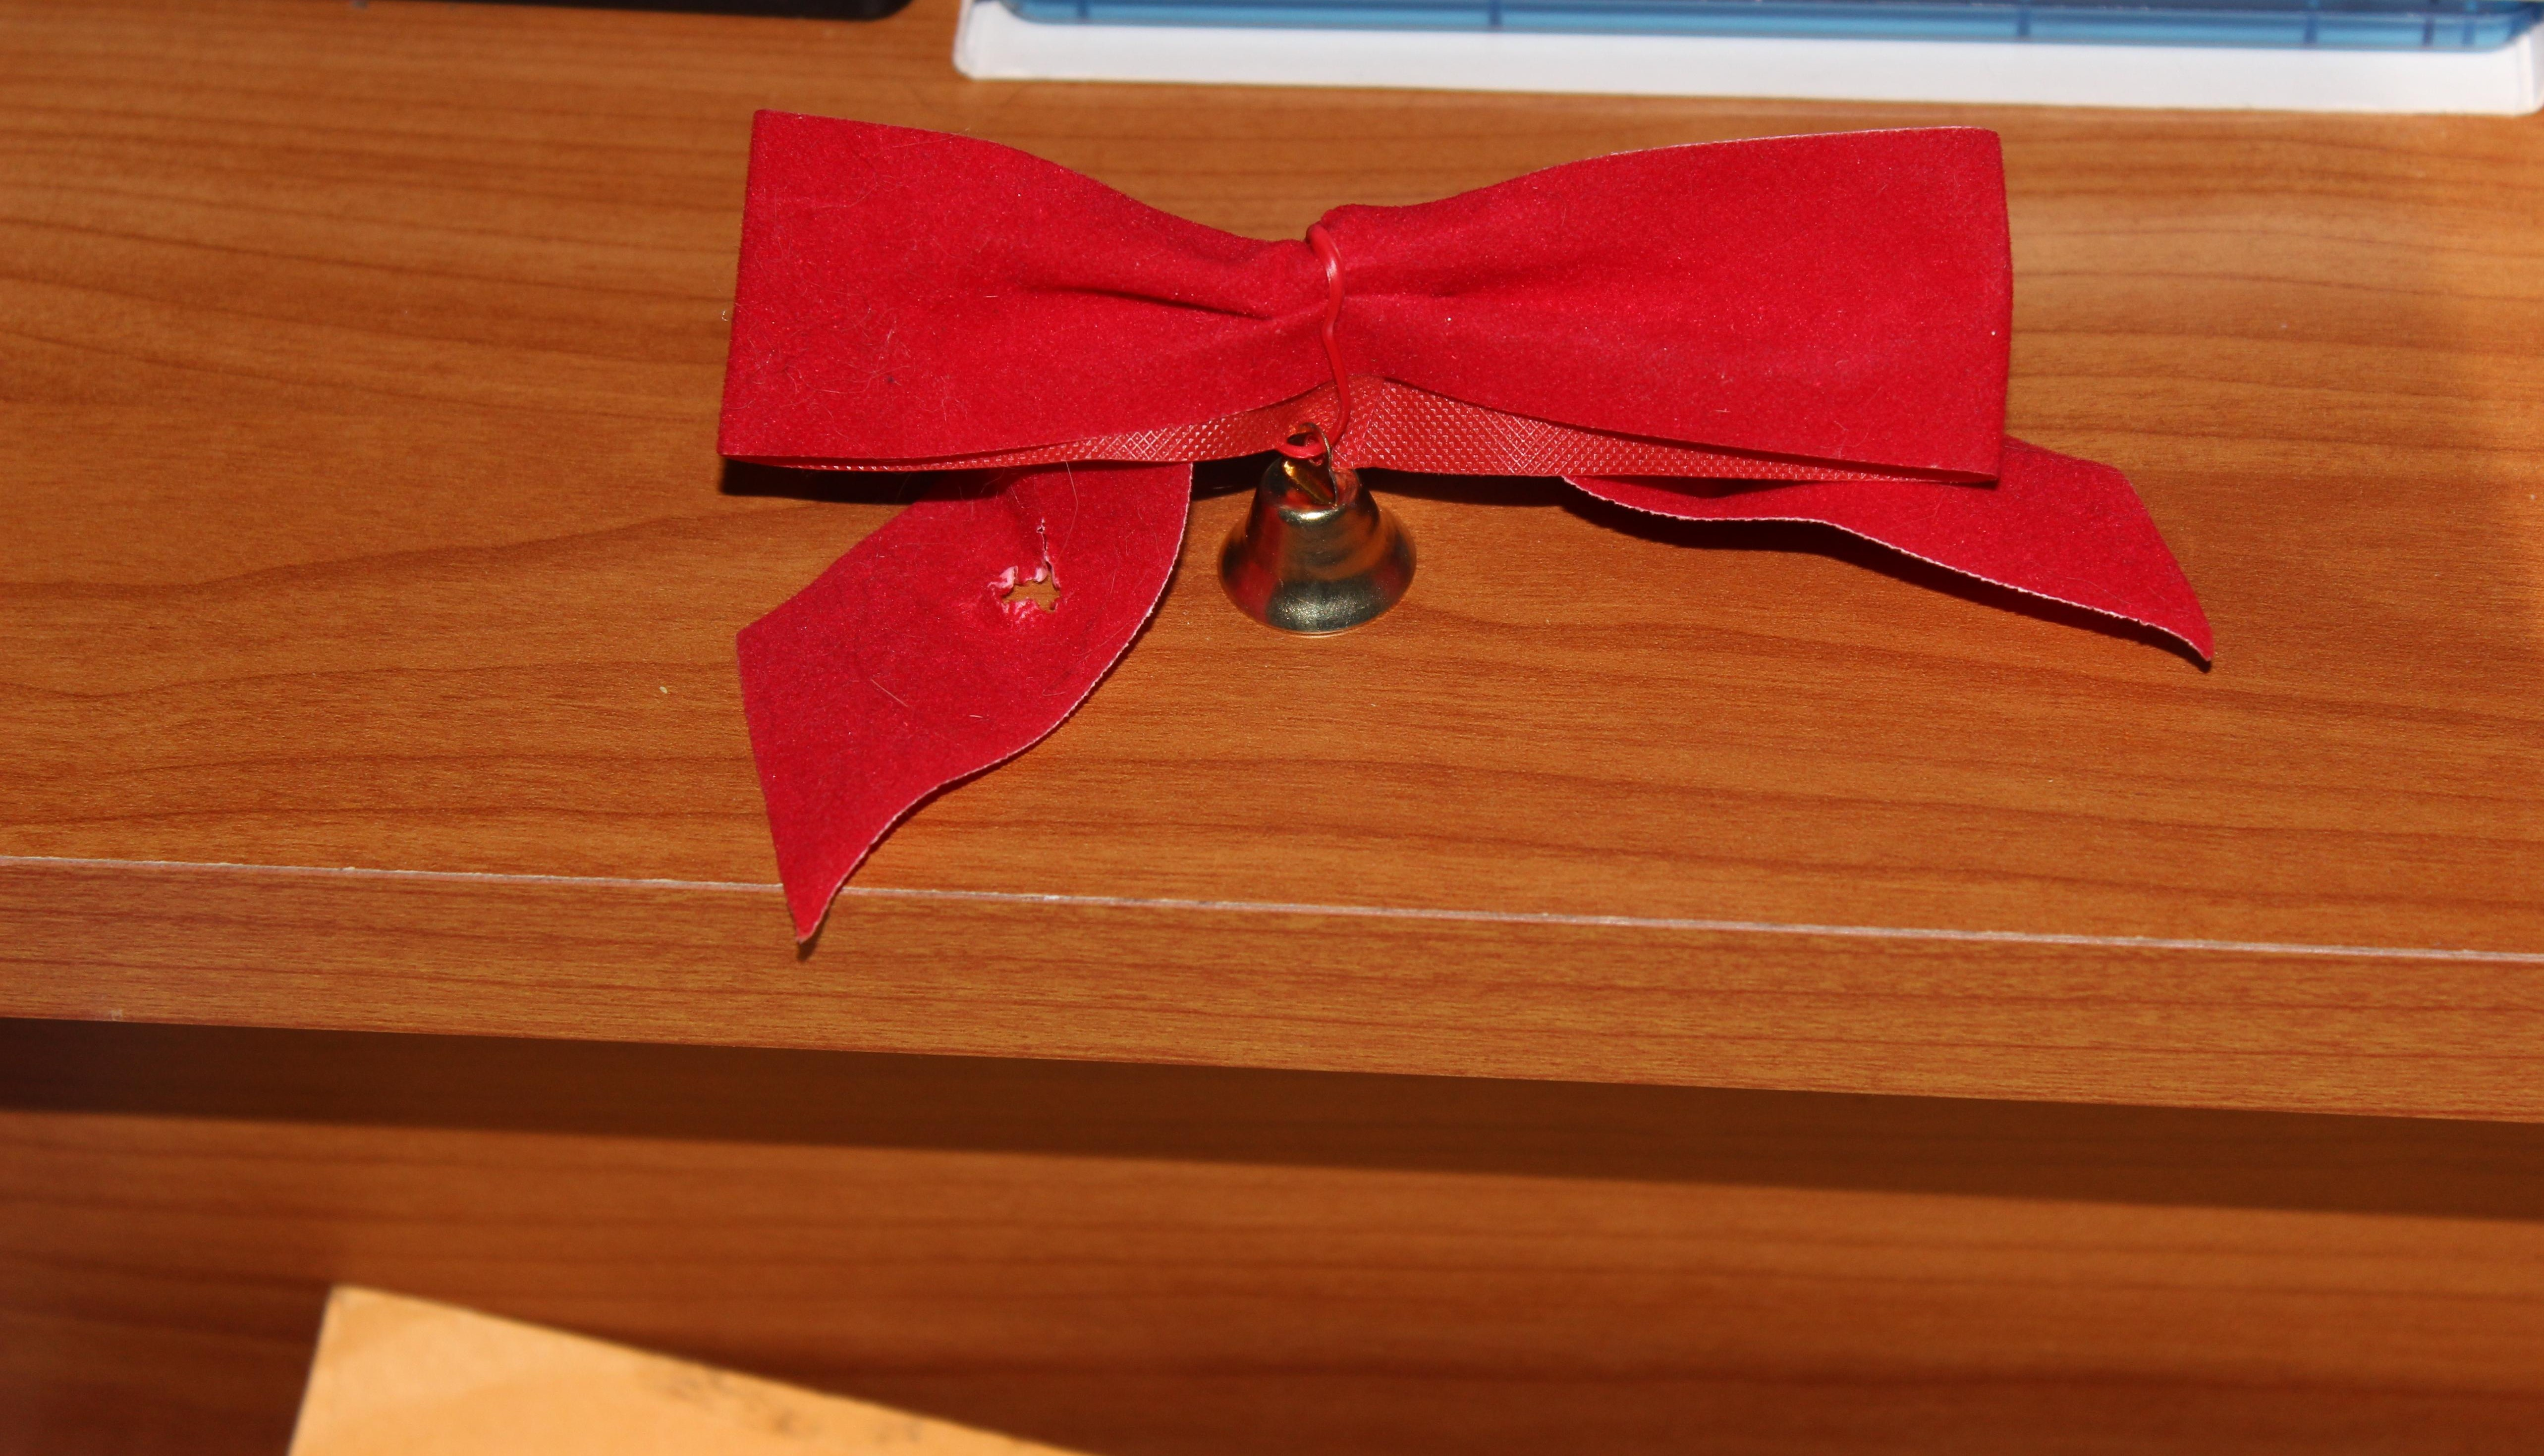redBow: (676, 63, 2263, 1007)
